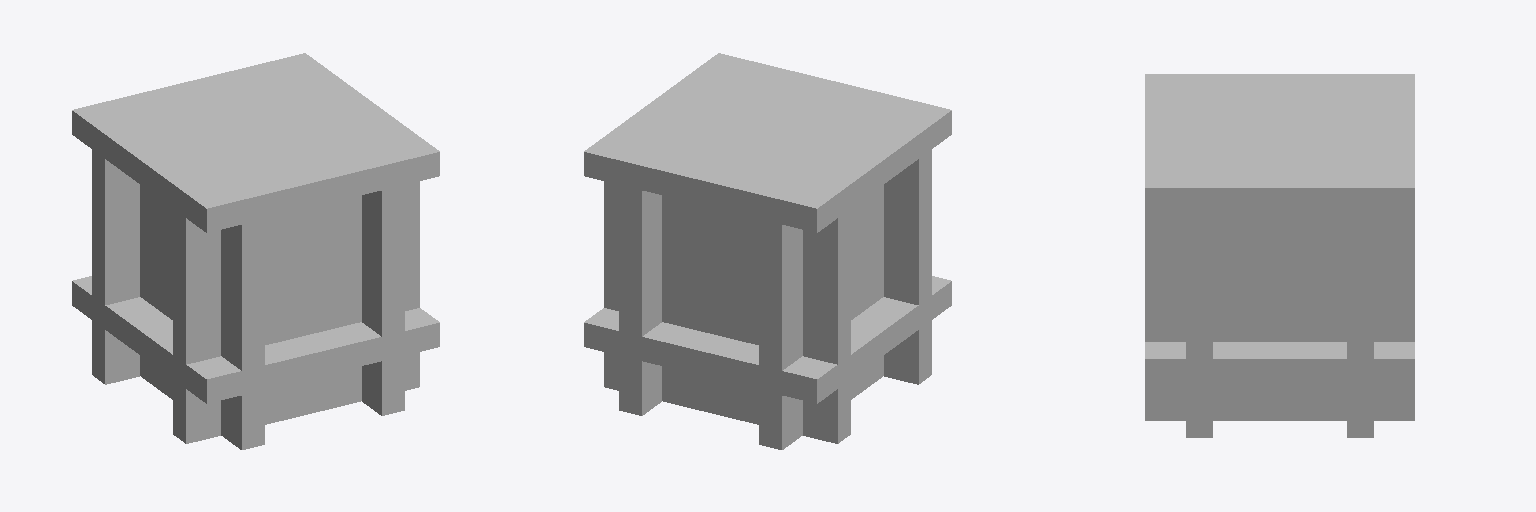
The model's file is background2.obj.
The picture shows the model from 3 angles: view 1: azimuth 30°, elevation 25°; view 2: azimuth 150°, elevation 25°; view 3: azimuth 270°, elevation 25°; orthographic projection.
Parts seen in each view (by area): view 1: 立方體.002_立方體.003, 立方體.005_立方體.006, 立方體_立方體.001, 立方體.003_立方體.004, 立方體.004_立方體.005, 立方體.001_立方體.002; view 2: 立方體.002_立方體.003, 立方體.004_立方體.005, 立方體_立方體.001, 立方體.003_立方體.004, 立方體.005_立方體.006, 立方體.001_立方體.002; view 3: 立方體.002_立方體.003, 立方體.001_立方體.002, 立方體_立方體.001, 立方體.004_立方體.005, 立方體.005_立方體.006.
Part boxes in pixels (x1,y1,x2,y2): 立方體.002_立方體.003: (72,53,439,232); 立方體.005_立方體.006: (173,181,419,443); 立方體_立方體.001: (72,276,439,403); 立方體.003_立方體.004: (140,185,264,449); 立方體.004_立方體.005: (92,131,139,384); 立方體.001_立方體.002: (362,166,404,415); 立方體.002_立方體.003: (584,53,951,232); 立方體.004_立方體.005: (604,181,850,443); 立方體_立方體.001: (584,276,951,403); 立方體.003_立方體.004: (759,185,883,449); 立方體.005_立方體.006: (884,131,931,384); 立方體.001_立方體.002: (619,166,661,415); 立方體.002_立方體.003: (1145,74,1414,211); 立方體.001_立方體.002: (1145,212,1414,420); 立方體_立方體.001: (1145,342,1414,382); 立方體.004_立方體.005: (1347,194,1373,437); 立方體.005_立方體.006: (1186,194,1212,437).
Bounding box in the file's own units: 200 × 205 × 200.